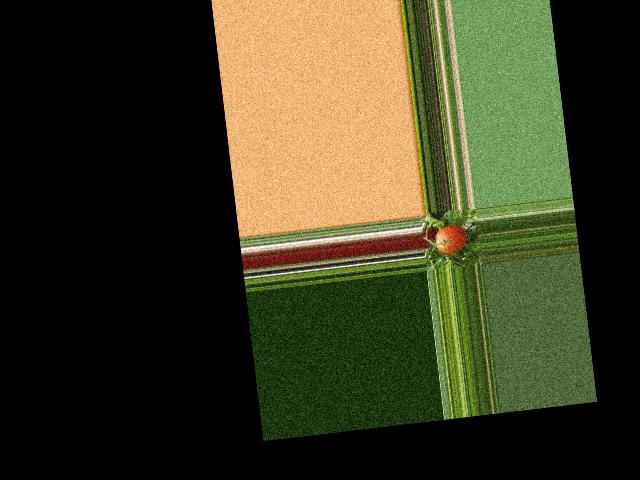tomato: (433, 224, 467, 255)
